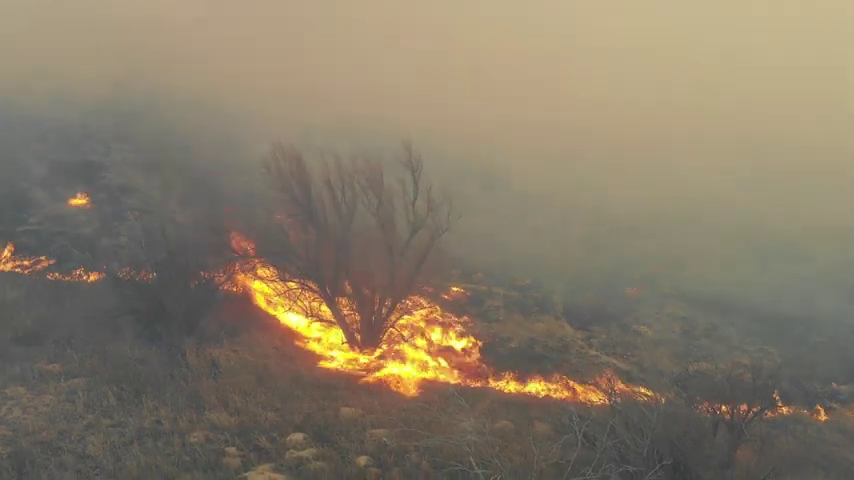forest_fire: (203, 232, 662, 404), (0, 242, 105, 282), (765, 392, 827, 420), (67, 192, 90, 207)
